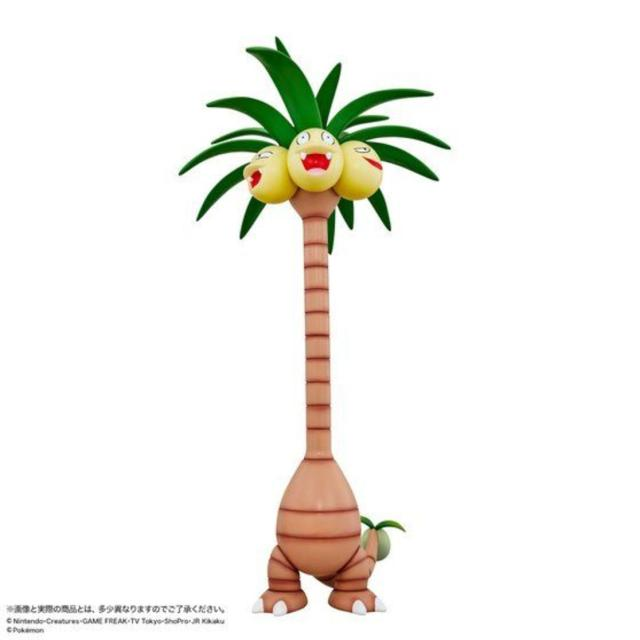Exeggutor: (225, 104, 410, 600)
